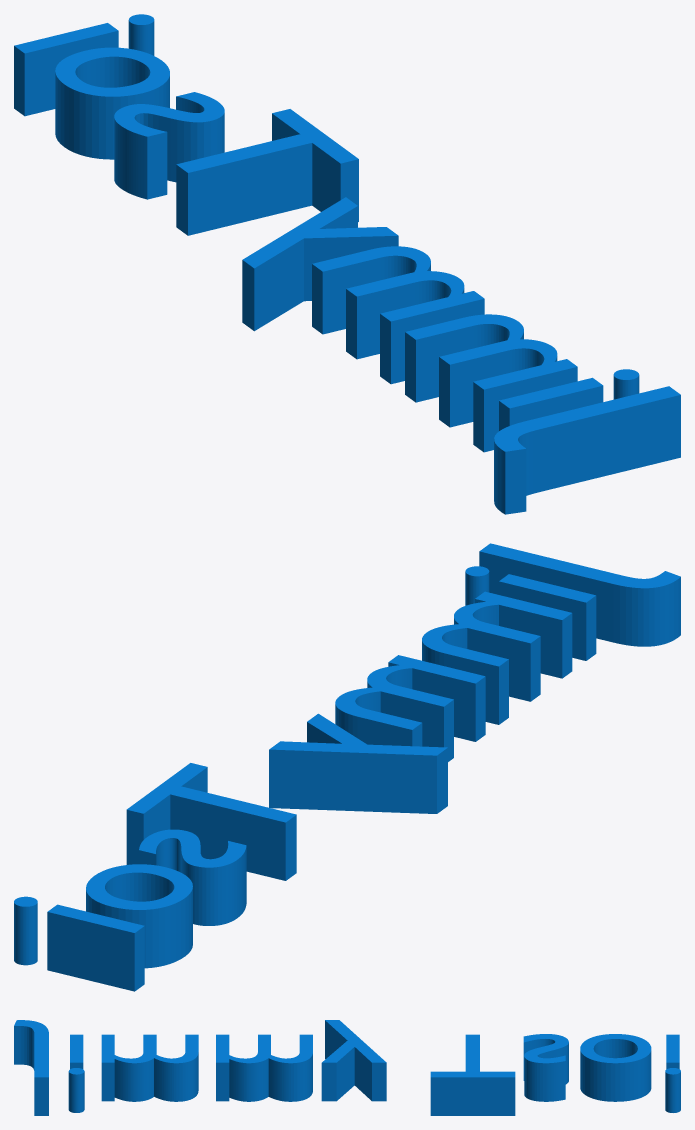
Rendered from asset.glb.
The picture shows the model from 3 angles, top to bottom: view 1: azimuth 30°, elevation 25°; view 2: azimuth 150°, elevation 25°; view 3: azimuth 270°, elevation 25°; orthographic projection. The views are drawn at different scales.
Parts seen in each view (by area): view 1: Text; view 2: Text; view 3: Text.
Boxes of the visible parts, x1,y1,x2,y2 form: Text: (14,14,680,514); Text: (14,543,680,991); Text: (14,1020,680,1115).
Size of the model in its own units: 0.912 by 0.2872 by 4.49.
